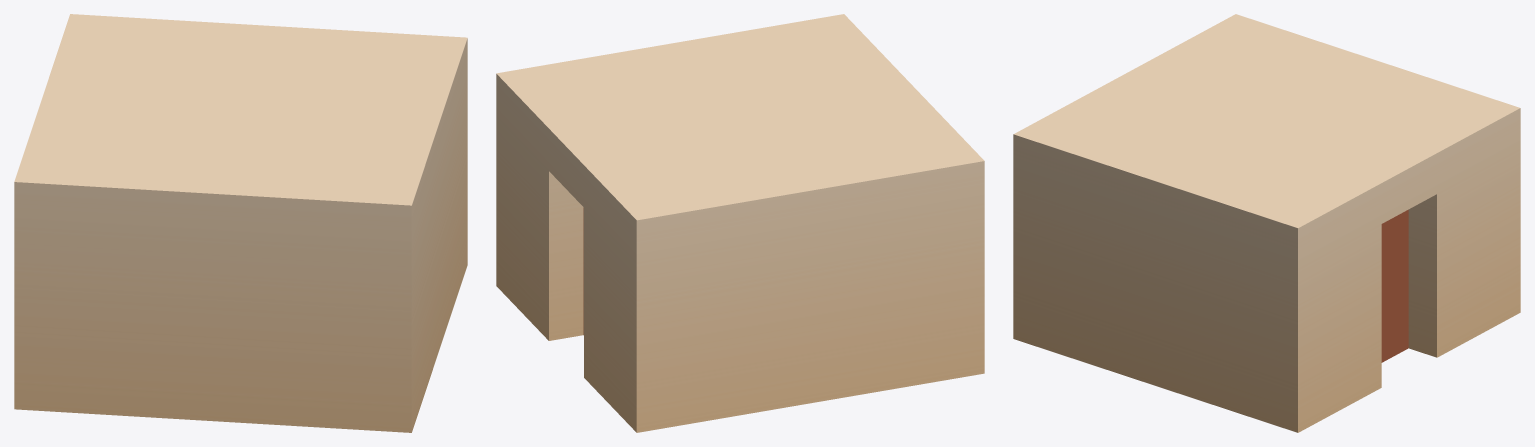
Rendered from Building.fbx.
3 views of the same model, side by side, from view 1: azimuth 30°, elevation 25°; view 2: azimuth 150°, elevation 25°; view 3: azimuth 270°, elevation 25° (orthographic). The views are drawn at different scales.
Visible parts, largest first — view 1: building_door; view 2: building_door; view 3: building_door.
Boxes of the visible parts, x1,y1,x2,y2 form: building_door: [14, 14, 467, 432]; building_door: [496, 14, 984, 432]; building_door: [1013, 14, 1520, 432].
Size of the model in its own units: 983 by 438 by 983.
1 material, 1 textured.
